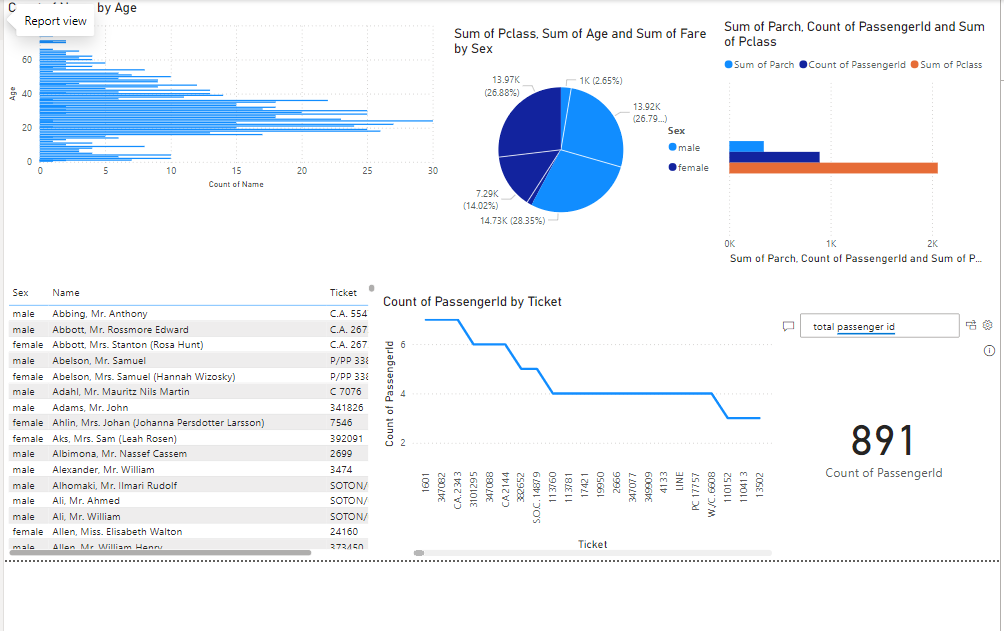

What the dashboard file says about the page in this screenshot:
{"tool":"powerbi","page":{"name":"Page 1","canvas":[1280,720],"ordinal":0},"visuals":[{"type":"tableEx","fields":{"Values":["Titanic-Dataset.Sex","Titanic-Dataset.Name","Titanic-Dataset.Ticket"]},"box":[0,359.8,481.9,359.8],"z":0},{"type":"barChart","fields":{"Category":["Titanic-Dataset.Age"],"Y":["Titanic-Dataset.Name"]},"box":[0,0,562.9,246.7],"z":1},{"type":"pieChart","fields":{"Y":["Titanic-Dataset.Pclass","Titanic-Dataset.Age","Titanic-Dataset.Fare"],"Category":["Titanic-Dataset.Sex","Titanic-Dataset.Cabin","Titanic-Dataset.Embarked"]},"box":[573.2,33.4,347,280.2],"z":2},{"type":"lineChart","fields":{"Category":["Titanic-Dataset.Ticket"],"Y":["Titanic-Dataset.PassengerId"]},"box":[481.9,377.8,510.2,341.8],"z":3},{"type":"clusteredBarChart","fields":{"Y":["Titanic-Dataset.Parch","Titanic-Dataset.PassengerId","Titanic-Dataset.Pclass"]},"box":[920.2,24.4,349.6,320],"z":4},{"type":"qnaVisual","box":[992.1,377.8,287.9,316.1],"z":5}]}

Visuals, with their boxes on the page's 1280x720 design canvas (x1, y1, x2, y2). These are canvas units, not pixel positions in the 1004x631 screenshot, which may show the page scaled, cropped or inside an application window:
tableEx - Titanic-Dataset.Sex x Titanic-Dataset.Name: {"left": 0, "top": 360, "right": 482, "bottom": 720}
barChart - Titanic-Dataset.Age x Titanic-Dataset.Name: {"left": 0, "top": 0, "right": 563, "bottom": 247}
pieChart - Titanic-Dataset.Pclass x Titanic-Dataset.Age: {"left": 573, "top": 33, "right": 920, "bottom": 314}
lineChart - Titanic-Dataset.Ticket x Titanic-Dataset.PassengerId: {"left": 482, "top": 378, "right": 992, "bottom": 720}
clusteredBarChart - Titanic-Dataset.Parch x Titanic-Dataset.PassengerId: {"left": 920, "top": 24, "right": 1270, "bottom": 344}
qnaVisual: {"left": 992, "top": 378, "right": 1280, "bottom": 694}
